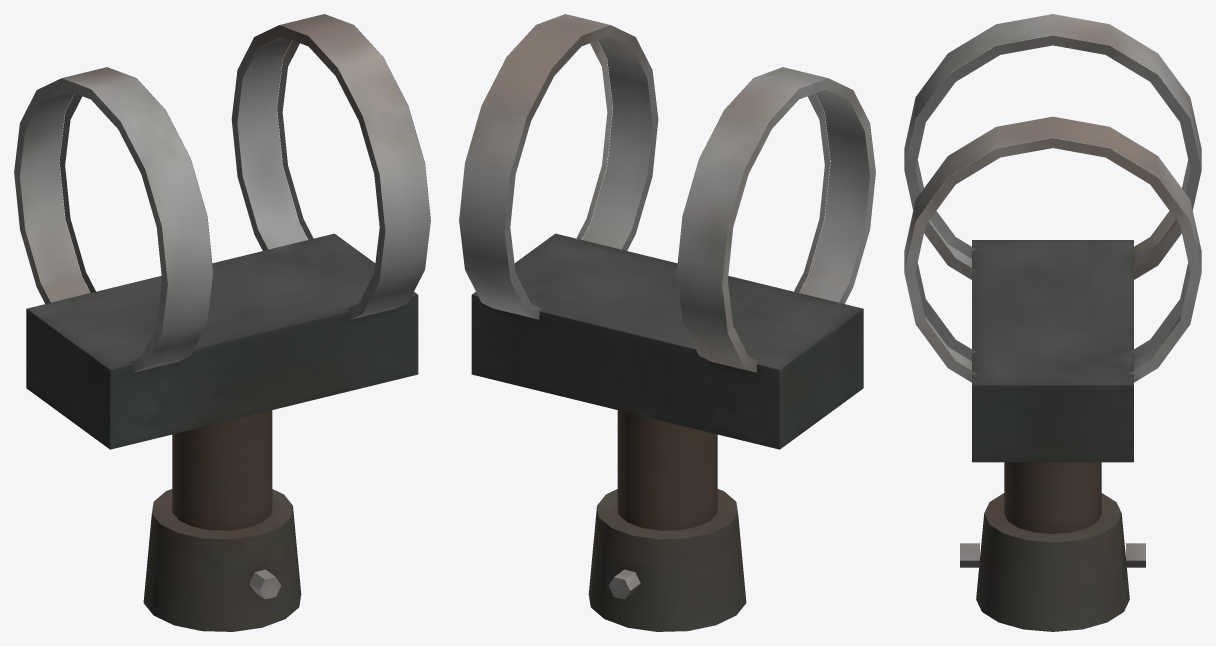
The model's file is mastMount2-v1.glb.
3 renders of one model, left to right at view 1: azimuth 30°, elevation 25°; view 2: azimuth 150°, elevation 25°; view 3: azimuth 270°, elevation 25°, orthographic. The views are drawn at different scales.
Visible parts, largest first — view 1: mastMount2-v1; view 2: mastMount2-v1; view 3: mastMount2-v1.
Part boxes in pixels (box(x1,y1,x2,y2)): mastMount2-v1: box(14, 14, 430, 631); mastMount2-v1: box(459, 14, 875, 631); mastMount2-v1: box(904, 14, 1201, 631).
Bounding box in the file's own units: 0.17 × 0.2855 × 0.147.
1 material, 1 textured.
